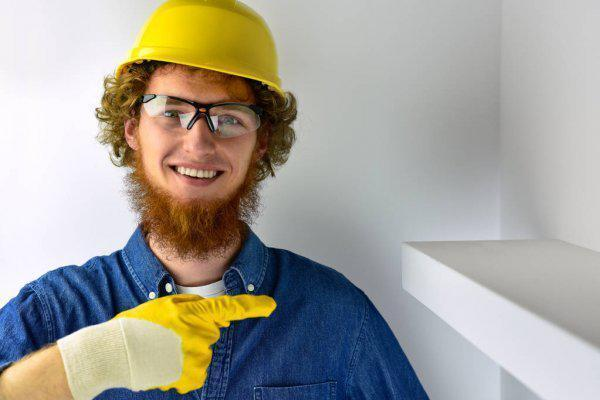helmet: (127, 0, 287, 105)
